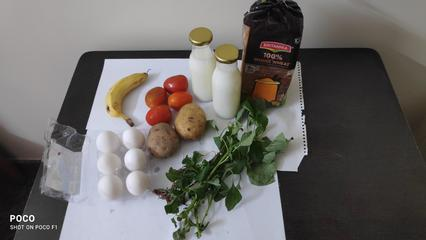banana: (107, 67, 136, 128)
bread: (242, 0, 299, 110)
eggs: (92, 126, 147, 200)
milk: (213, 44, 245, 120), (189, 30, 216, 95)
potato: (145, 121, 182, 160), (174, 104, 206, 136)
spinach: (203, 101, 276, 238)
tomato: (145, 106, 172, 126), (161, 76, 192, 92), (168, 91, 193, 108), (148, 88, 164, 104)
